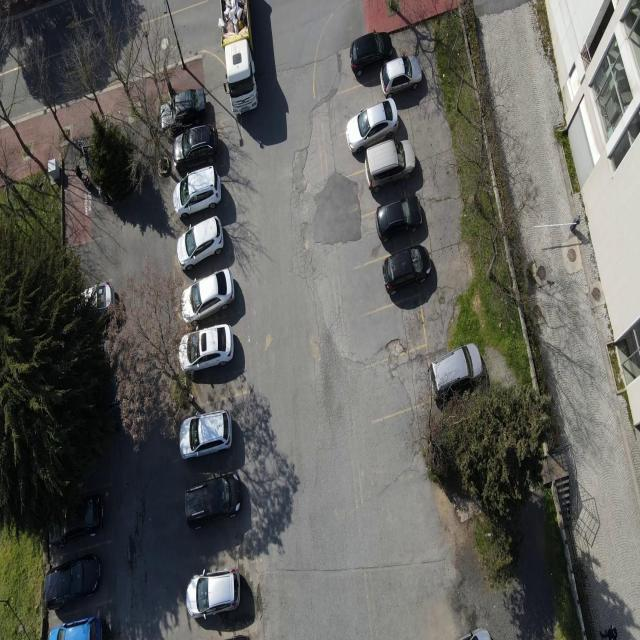p3rson: (600, 624, 618, 640)
